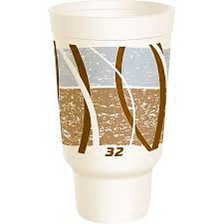paper_cup: (42, 0, 180, 224)
